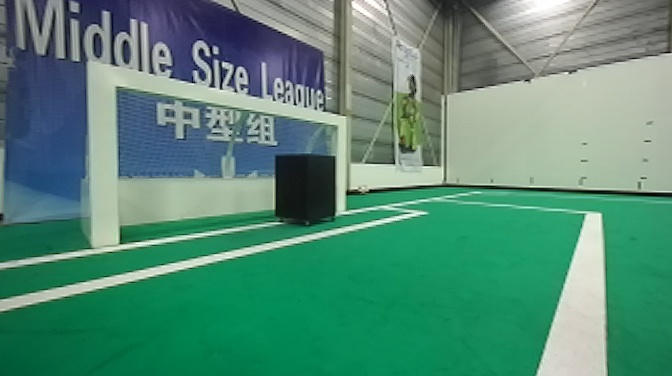ball: (354, 183, 375, 199)
goalpost: (85, 53, 126, 246), (333, 111, 354, 216)
